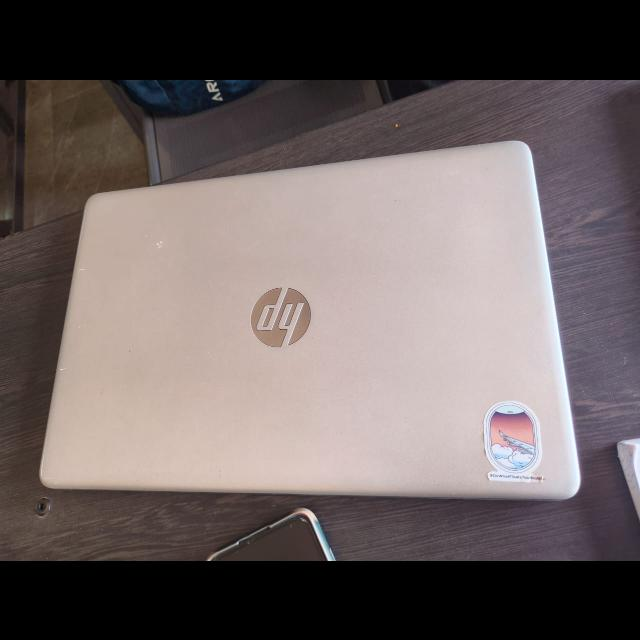laptop: (29, 136, 596, 500)
